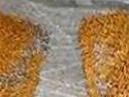rust: (81, 16, 129, 96), (1, 23, 39, 95)
